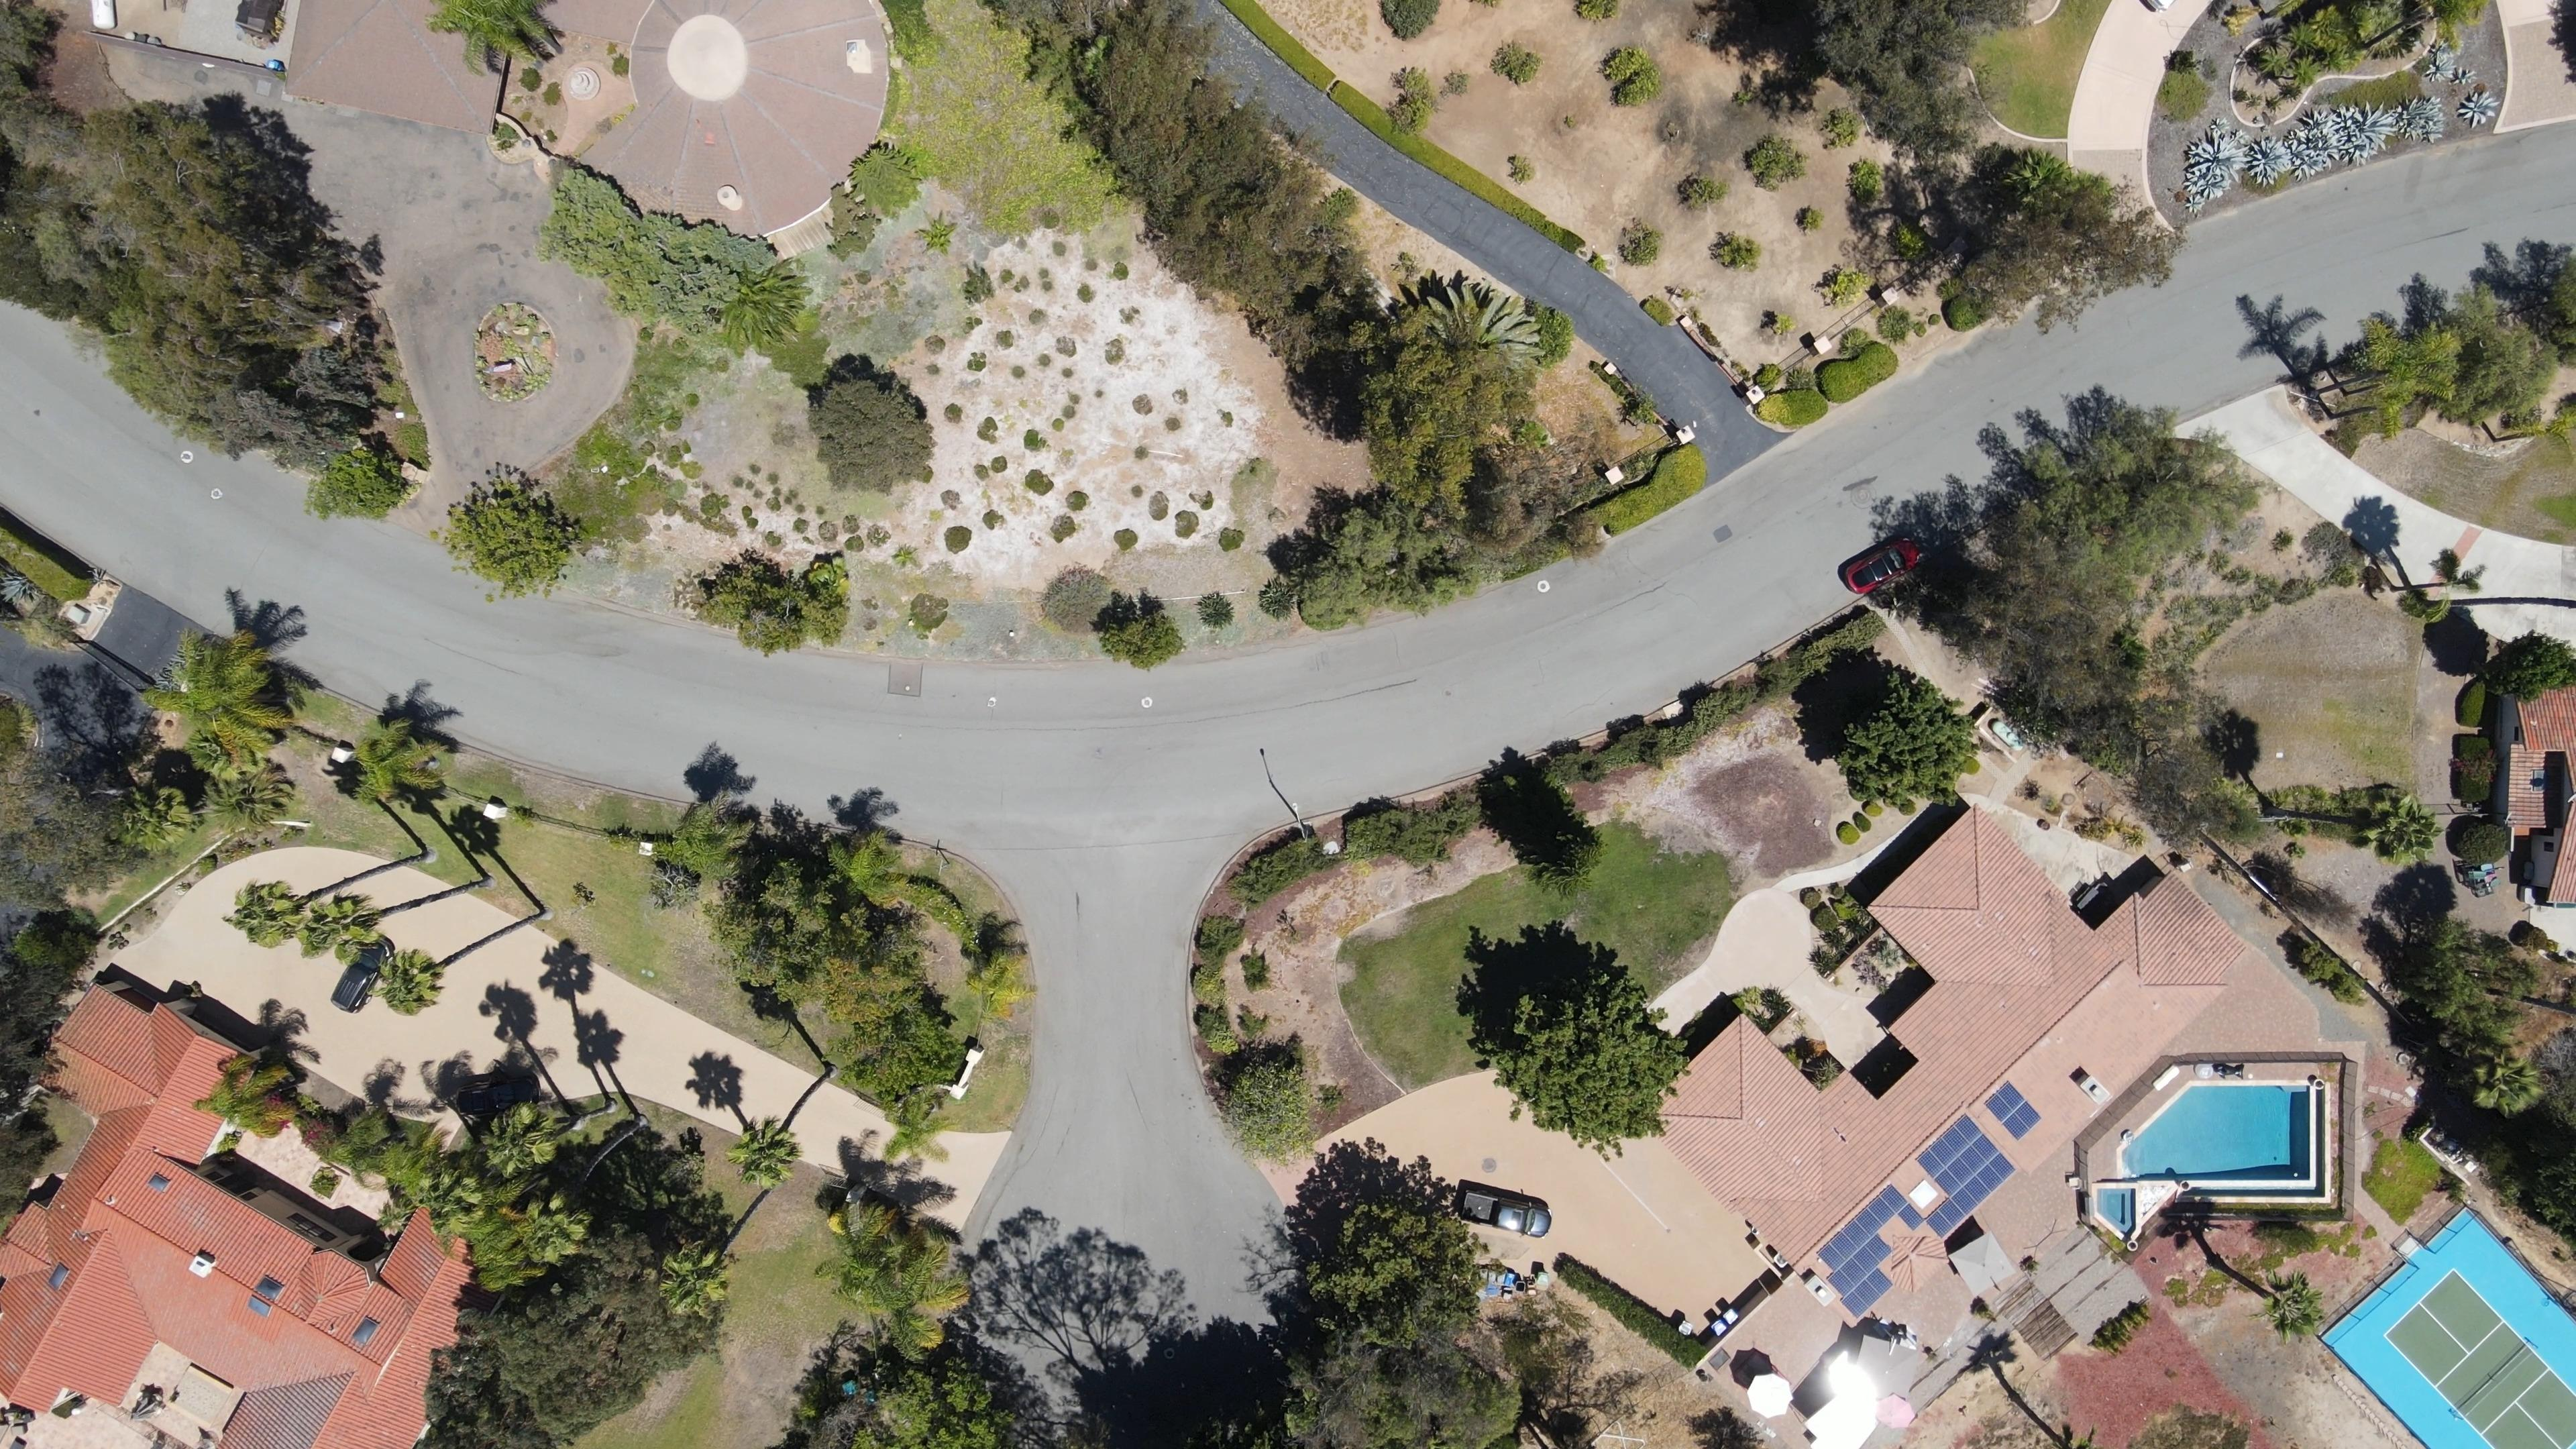panel: (1815, 1184, 1925, 1318), (1916, 1113, 2019, 1237), (1983, 1079, 2042, 1141)
